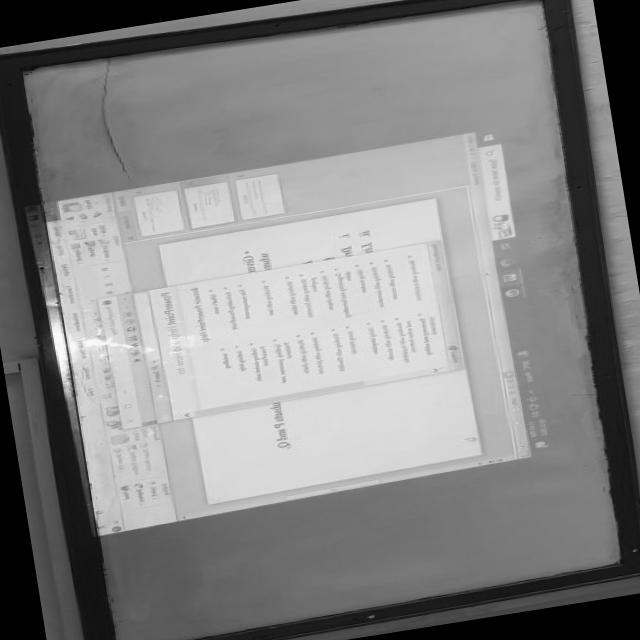Slide: (23, 124, 561, 535)
White-board: (1, 0, 636, 640)
